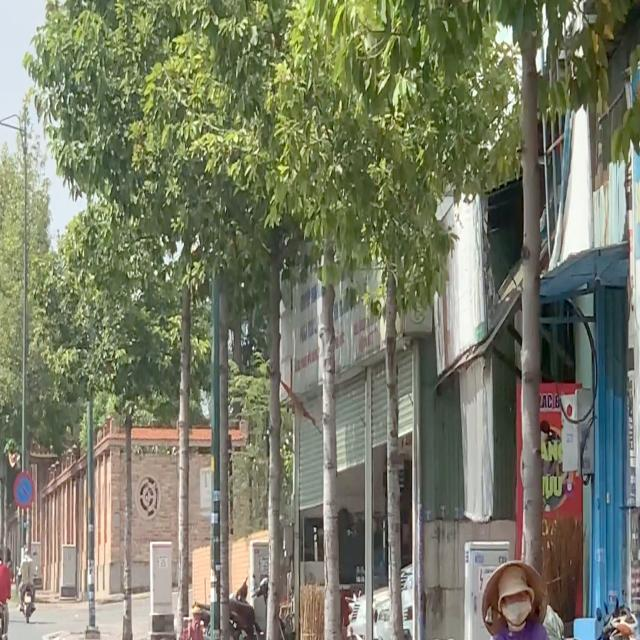Cam do: (14, 472, 35, 509)
